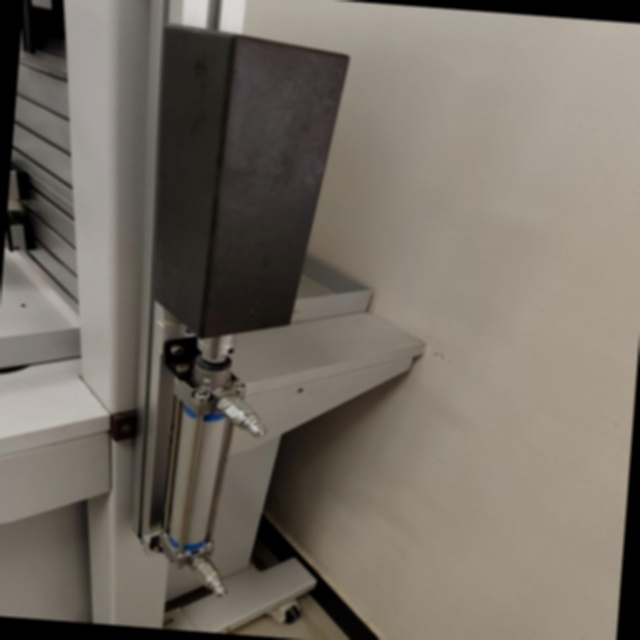load: (59, 0, 377, 619)
